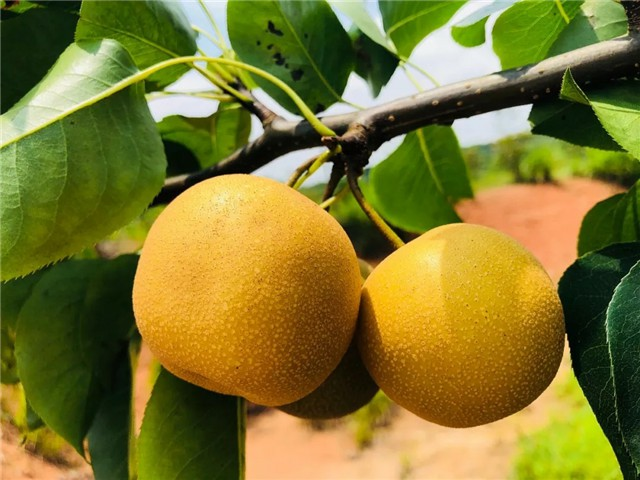pear: (132, 173, 361, 407), (353, 223, 568, 427)
